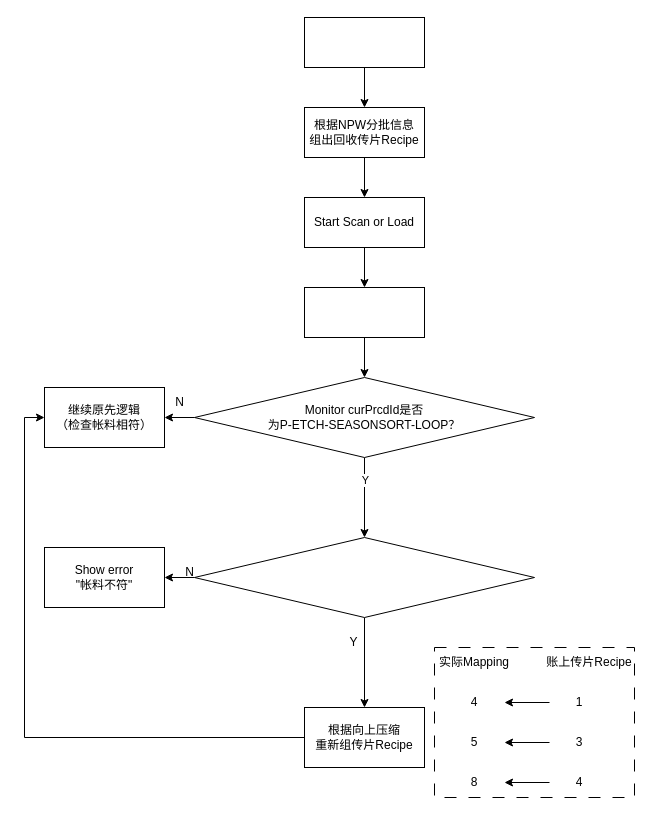
The diagram is 652 pixels wide and 815 high, and some of its shapes have lost their labels. Each missing label, with the centre of its shape:
"Mapping OK" goes at (x=364, y=312).
"Monitor到达回收站点" goes at (x=364, y=42).
"需要传片的片数与Mapping片数是否一致？" goes at (x=364, y=577).
